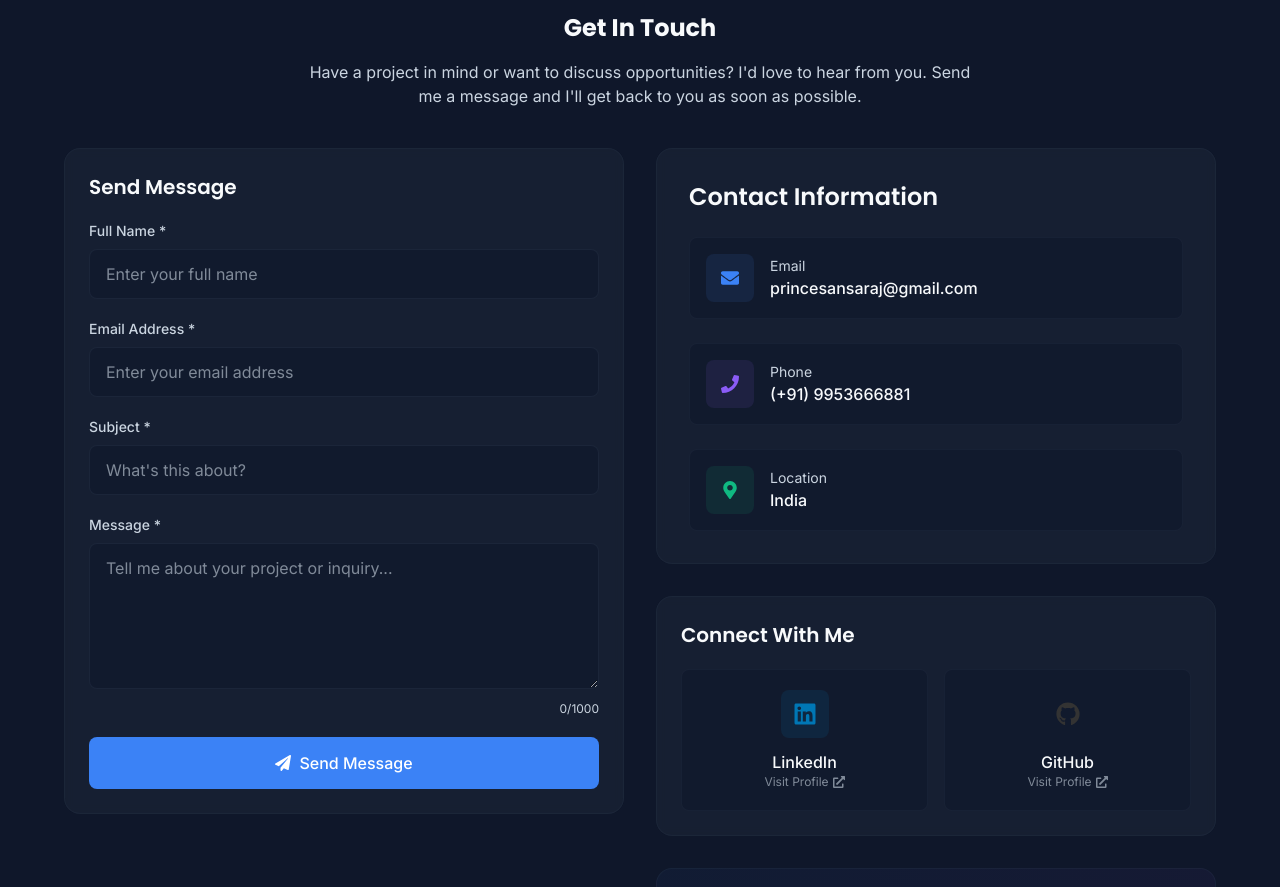
Test: Contact Component › validates required fields
Click the button "Send Message".
click(344, 763)  # box [89,737,599,789]
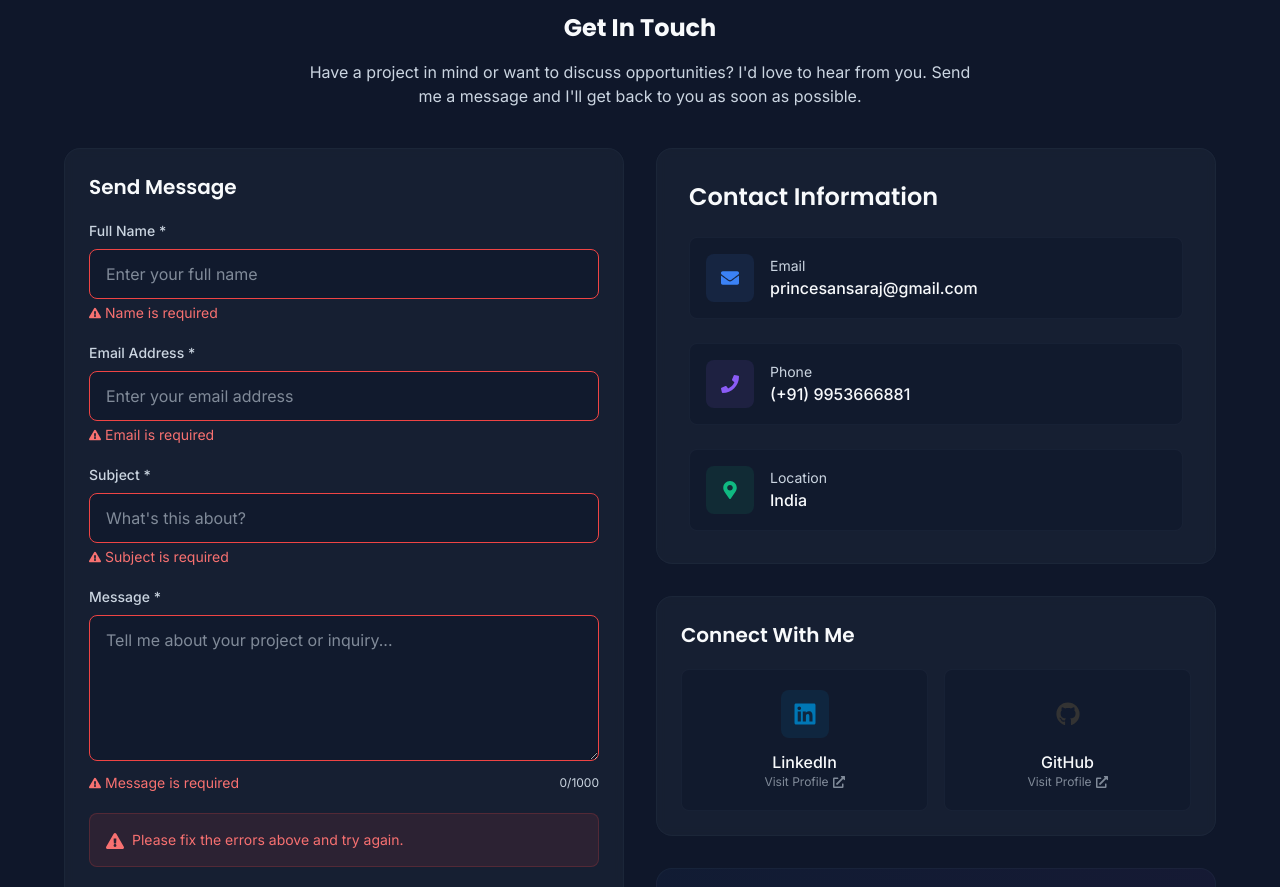
Expected: the text "Name is required" is shown, [105,303,218,323]
Expected: the text "Email is required" is shown, [105,425,214,445]
Expected: the text "Subject is required" is shown, [105,547,229,567]
